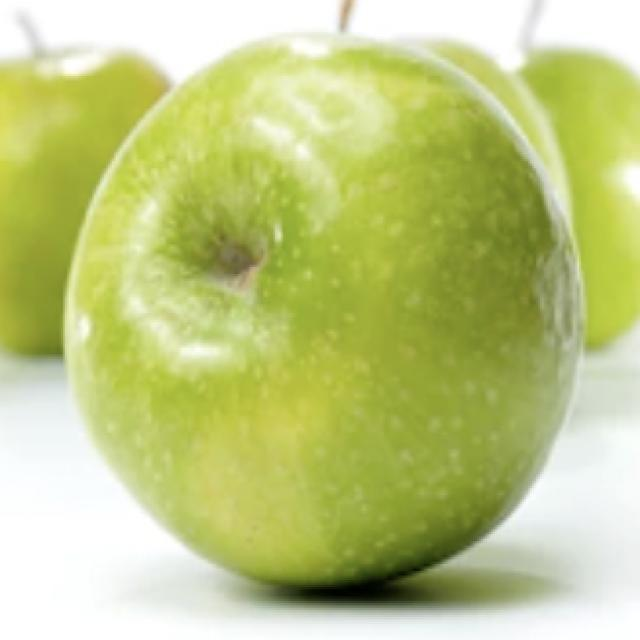Fresh Apple: (93, 27, 567, 575)
